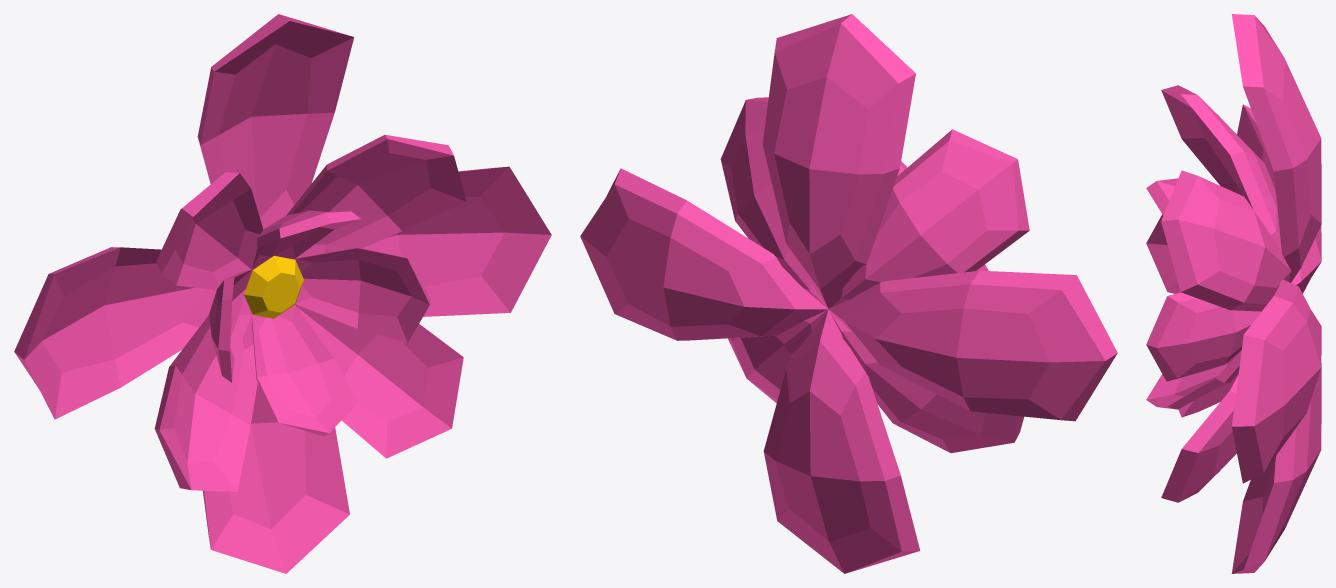
The model's file is flower_pink.gltf.
3 renders of one model, left to right at view 1: azimuth 30°, elevation 25°; view 2: azimuth 150°, elevation 25°; view 3: azimuth 270°, elevation 25°, orthographic.
Visible parts, largest first — view 1: pCube22_lambert7_0.007; view 2: pCube22_lambert7_0.007; view 3: pCube22_lambert7_0.007.
Part boxes in pixels (x1,y1,x2,y2): pCube22_lambert7_0.007: (14,14,551,573); pCube22_lambert7_0.007: (580,14,1117,573); pCube22_lambert7_0.007: (1146,14,1321,573).
Size of the model in its own units: 1.53 by 1.53 by 0.4348.
